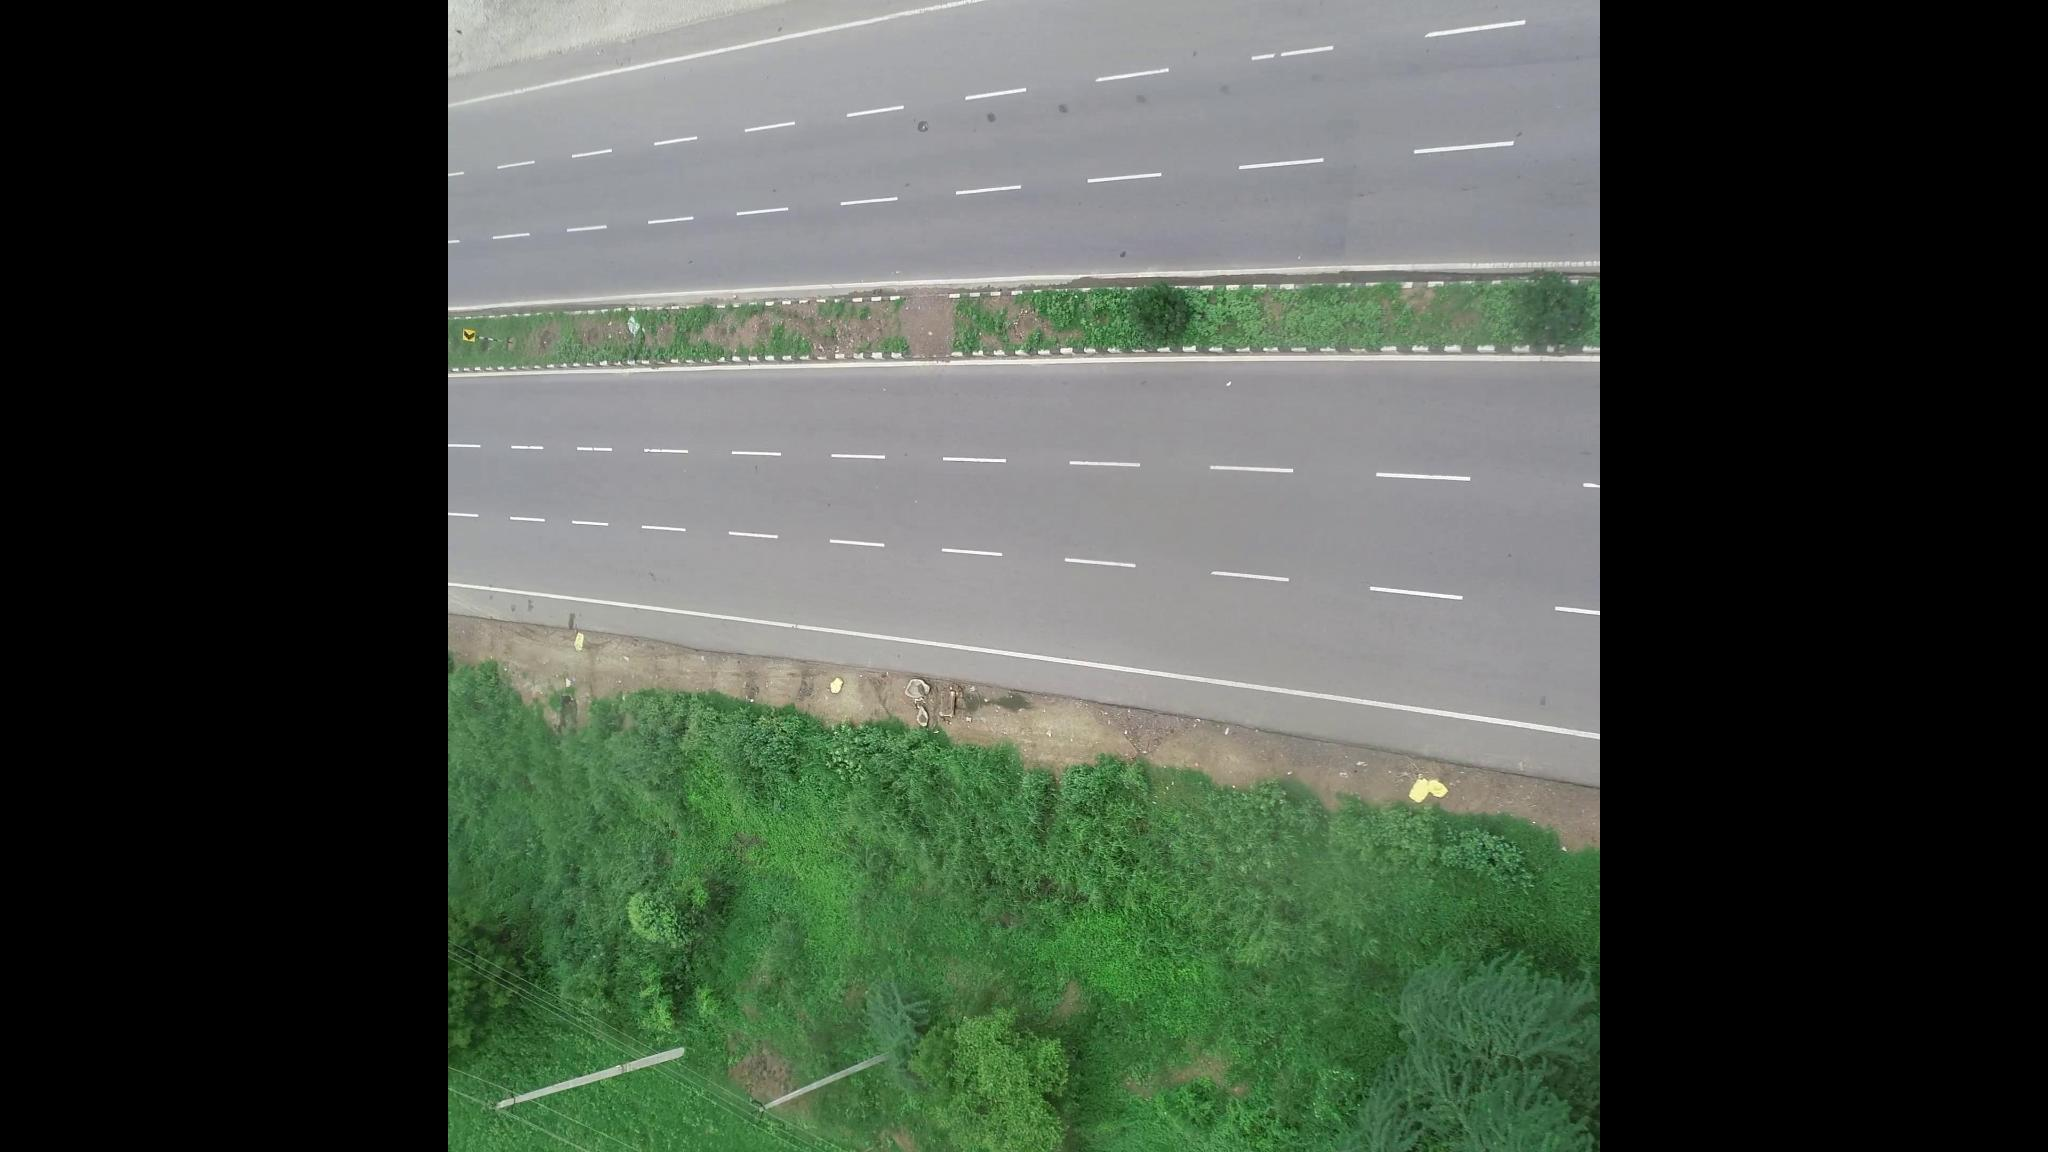Potholes: (896, 107, 954, 149)
